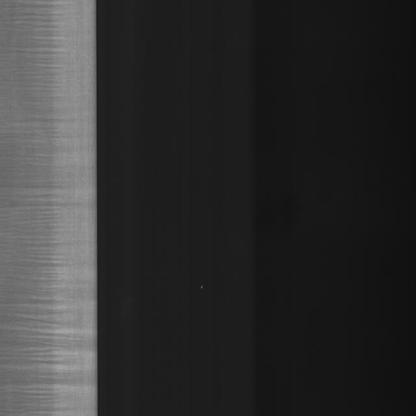waist_folding: (8, 22, 90, 404)
